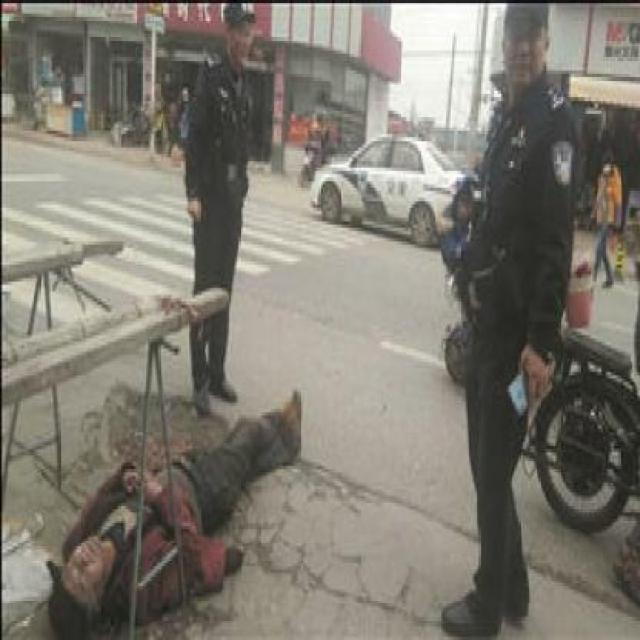fall: (47, 361, 304, 637)
